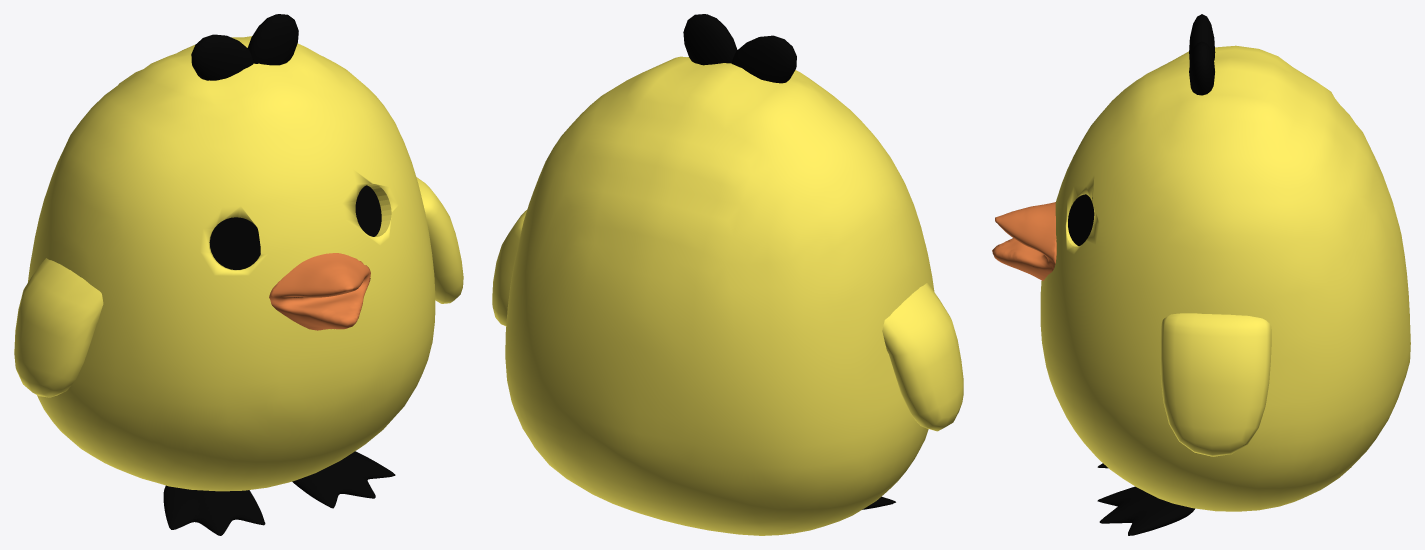
The model's file is pollo.glb.
The picture shows the model from 3 angles, left to right: view 1: azimuth 30°, elevation 25°; view 2: azimuth 150°, elevation 25°; view 3: azimuth 270°, elevation 25°; orthographic projection. The views are drawn at different scales.
Parts seen in each view (by area): view 1: Cubo, Cubo.001; view 2: Cubo, Cubo.001; view 3: Cubo, Cubo.001.
Part boxes in pixels (box(x1,y1,x2,y2)): Cubo: box(14, 36, 463, 535); Cubo.001: box(191, 14, 298, 80); Cubo: box(492, 56, 963, 535); Cubo.001: box(683, 14, 796, 83); Cubo: box(992, 45, 1410, 535); Cubo.001: box(1189, 14, 1215, 95).
Size of the model in its own units: 2.15 by 2.21 by 1.83.
